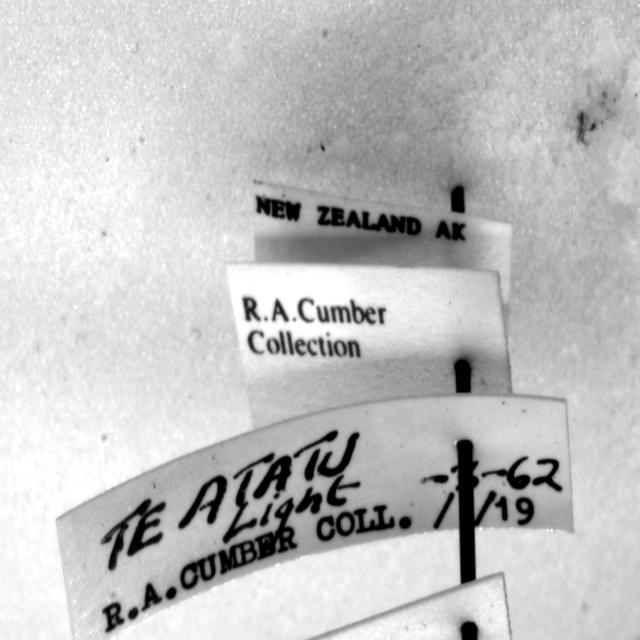mixed_label: (56, 396, 574, 639)
typed_label: (228, 262, 511, 428), (254, 182, 512, 324)
